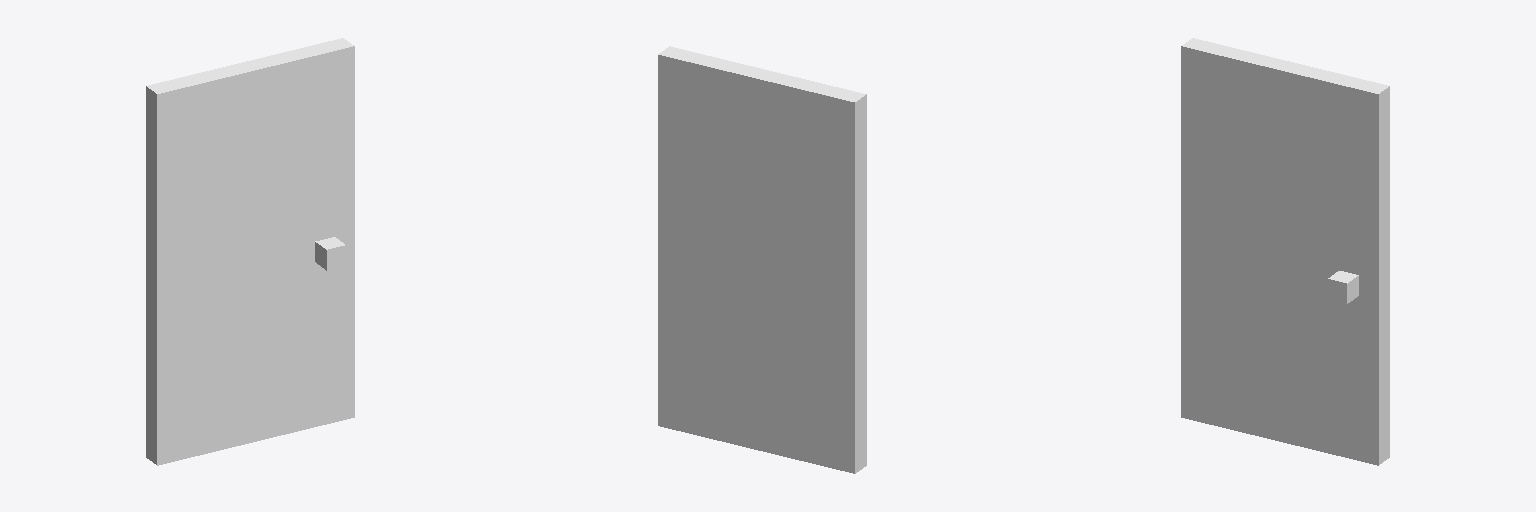
Rendered from apartmentdoor.obj.
The picture shows the model from 3 angles: view 1: azimuth 30°, elevation 25°; view 2: azimuth 150°, elevation 25°; view 3: azimuth 330°, elevation 25°; orthographic projection.
Visible parts, largest first — view 1: apartmentdoor; view 2: apartmentdoor; view 3: apartmentdoor.
Boxes of the visible parts, x1,y1,x2,y2 form: apartmentdoor: [146, 38, 354, 465]; apartmentdoor: [658, 46, 866, 473]; apartmentdoor: [1181, 38, 1389, 465].
Bounding box in the file's own units: 10 × 18 × 2.